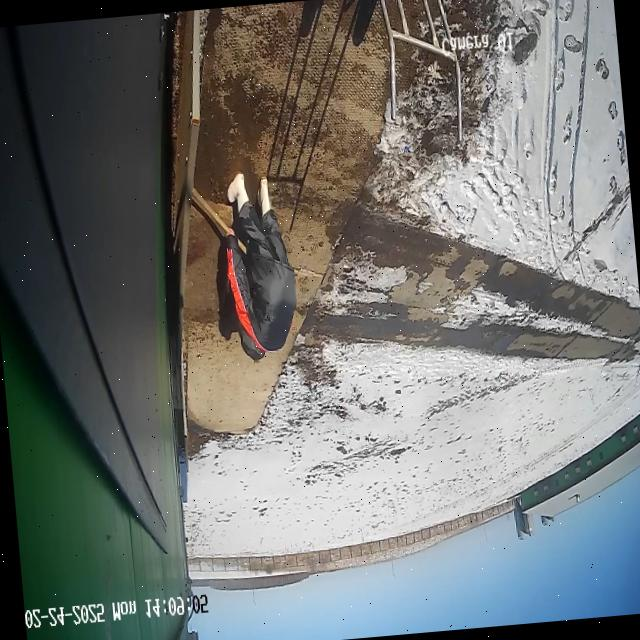Red uniform: (204, 165, 304, 366)
